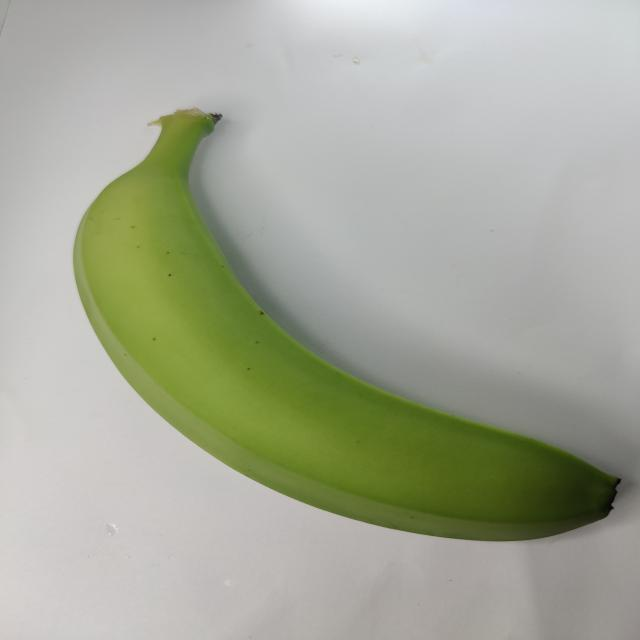raw: (47, 79, 640, 564)
